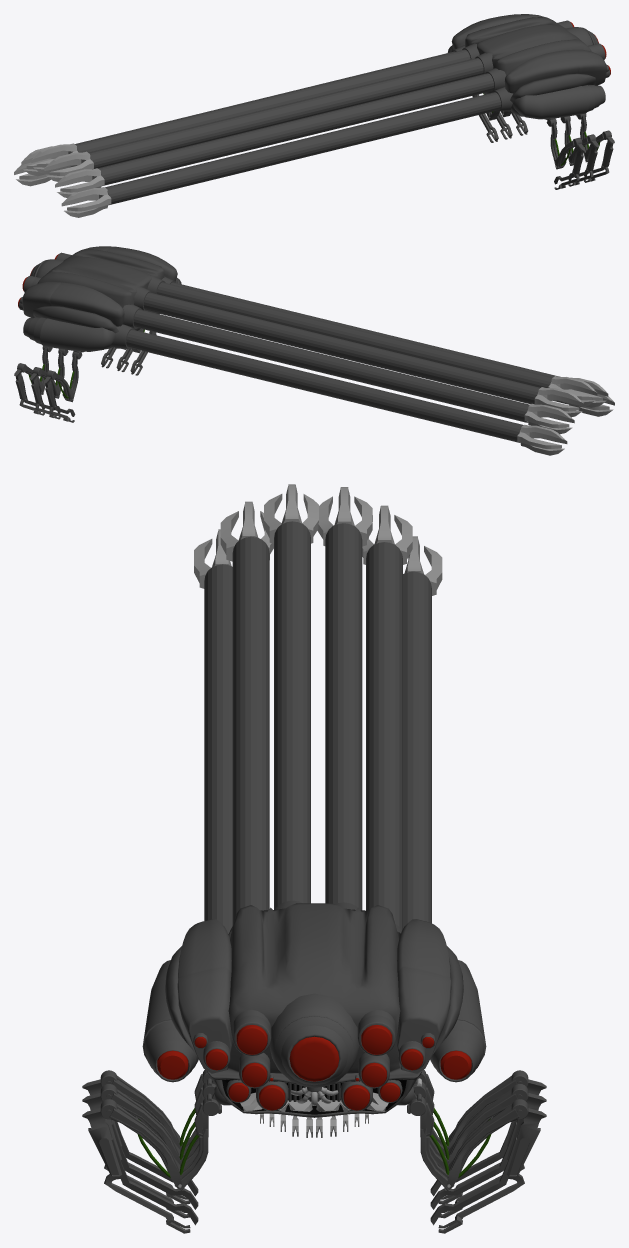
The model's file is Sentinel.fbx.
3 renders of one model, top to bottom at view 1: azimuth 30°, elevation 25°; view 2: azimuth 150°, elevation 25°; view 3: azimuth 270°, elevation 25°, orthographic. The views are drawn at different scales.
Visible parts, largest first — view 1: polySurface431; view 2: polySurface431; view 3: polySurface431.
Part boxes in pixels (bbox=[...]): polySurface431: bbox=[14, 14, 614, 217]; polySurface431: bbox=[14, 246, 614, 455]; polySurface431: bbox=[82, 484, 546, 1233].
Bounding box in the file's own units: 61.87 × 14.25 × 22.48.
